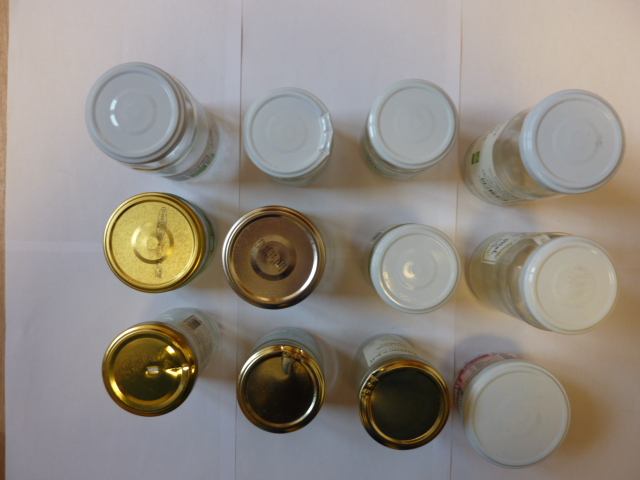damaged: (101, 323, 197, 417), (357, 359, 453, 451)
intact: (463, 360, 571, 468), (85, 61, 184, 164)
